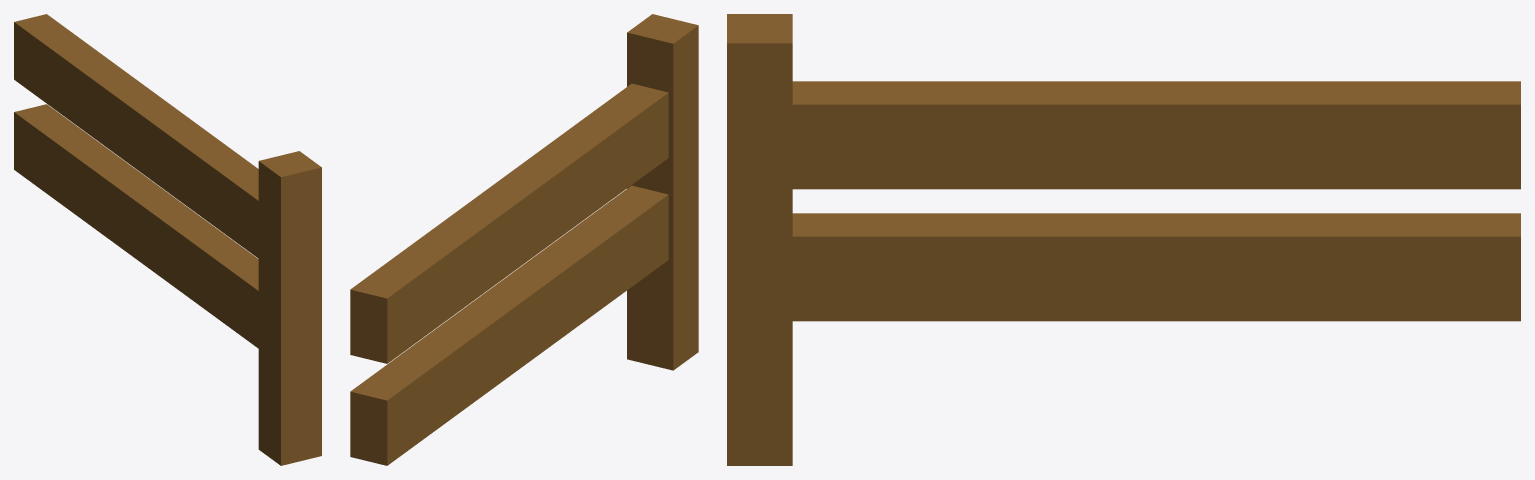
The model's file is fence_04.fbx.
3 views of the same model, side by side, from view 1: azimuth 30°, elevation 25°; view 2: azimuth 150°, elevation 25°; view 3: azimuth 270°, elevation 25° (orthographic). The views are drawn at different scales.
Visible parts, largest first — view 1: fence_04; view 2: fence_04; view 3: fence_04.
Boxes of the visible parts, left/top/right/bottom form: fence_04: left=14, top=14, right=321, bottom=465; fence_04: left=350, top=14, right=698, bottom=465; fence_04: left=727, top=14, right=1520, bottom=465.
Bounding box in the file's own units: 20.05 × 135 × 231.
